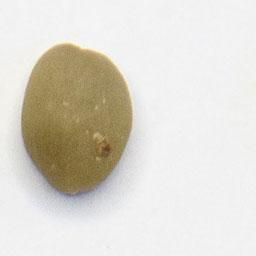premium: (18, 41, 136, 199)
